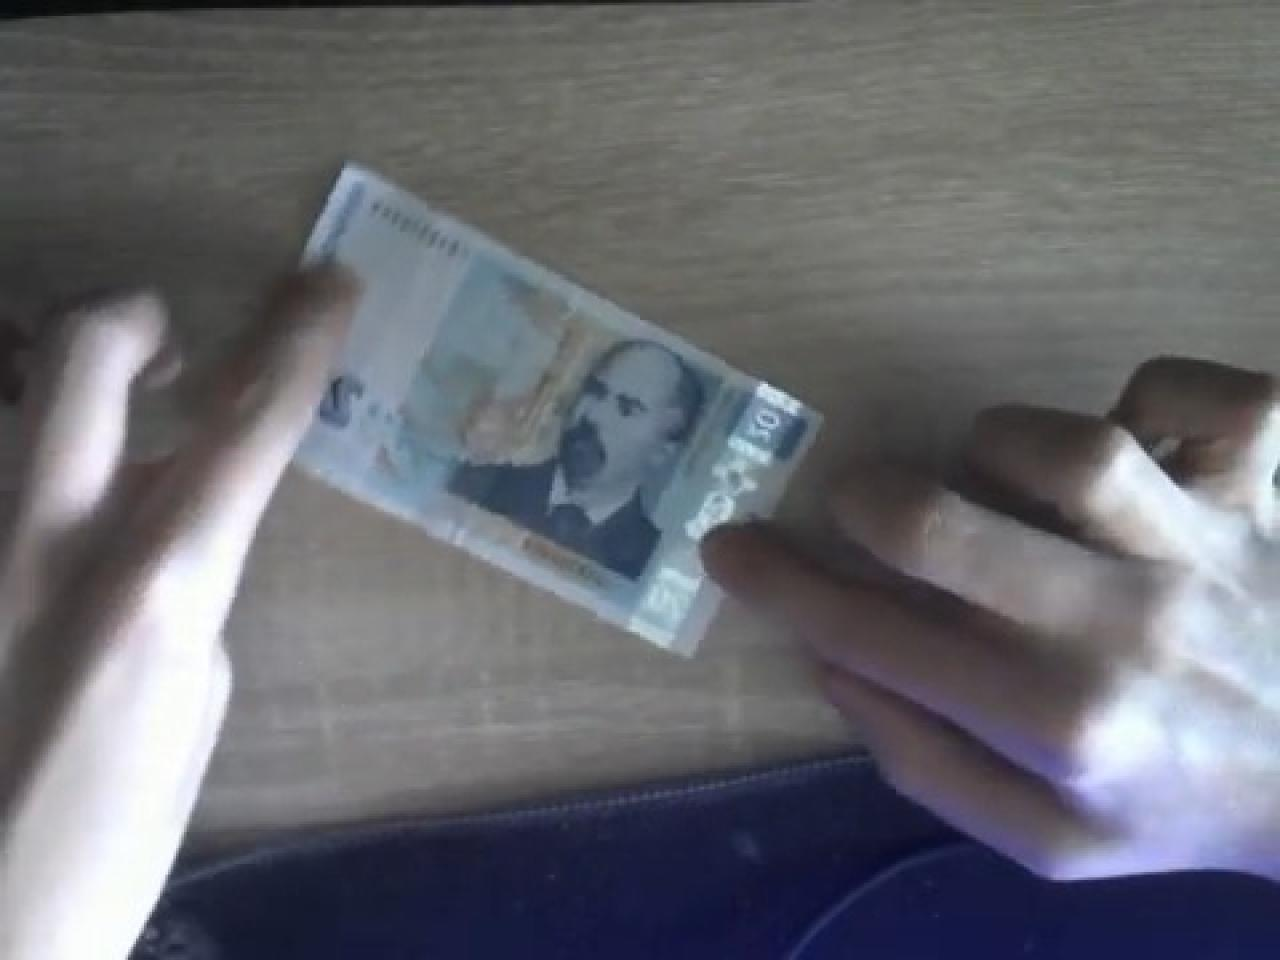20leva: (285, 160, 824, 664)
